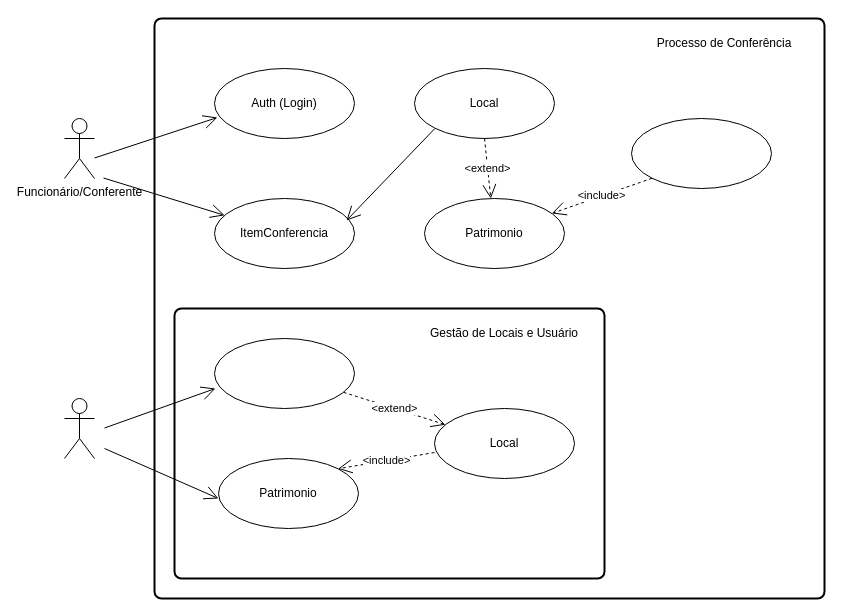
This 843x616 diagram has some shape labels left out. The centre of each missing label's shape, as x and y in pixels:
"Gestor/Administrador" goes at point (79, 428).
"SessaoConferencia" goes at point (701, 153).
"Usuário" goes at point (284, 373).
